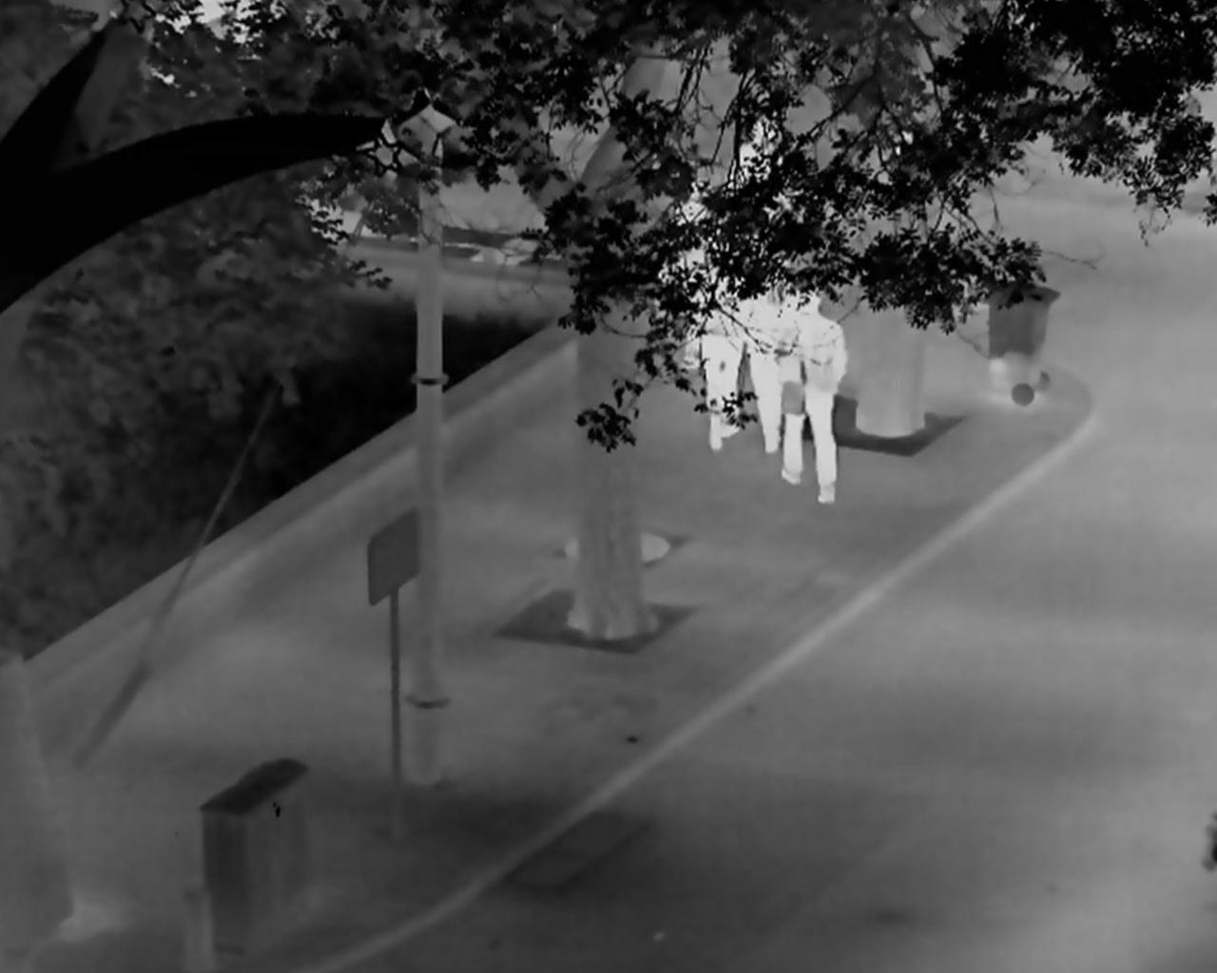person: (776, 286, 847, 504), (733, 252, 799, 454), (686, 255, 744, 452), (656, 179, 709, 367), (728, 113, 786, 222)
